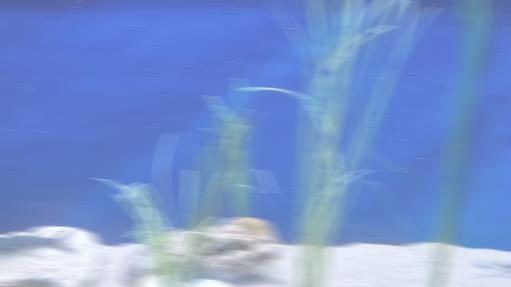Fish: (0, 228, 77, 258)
